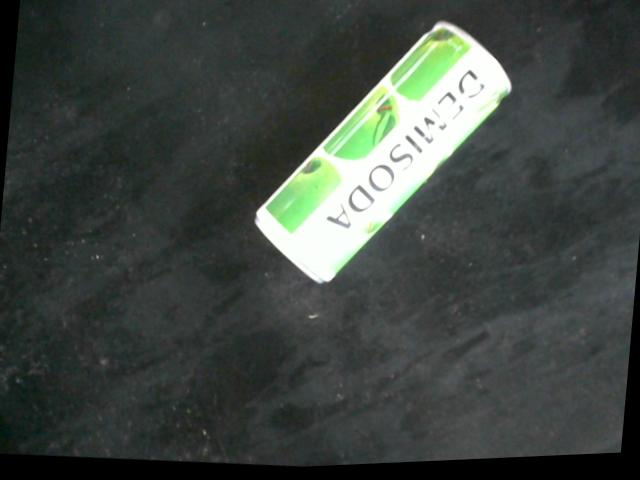can: (253, 23, 512, 288)
